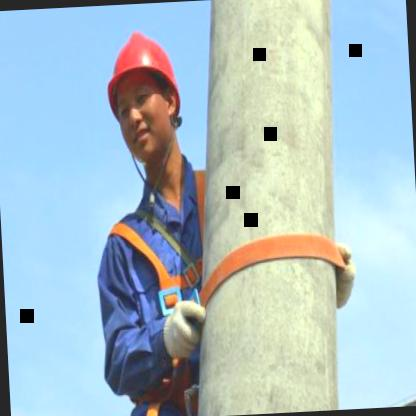helmet: (92, 9, 196, 192)
